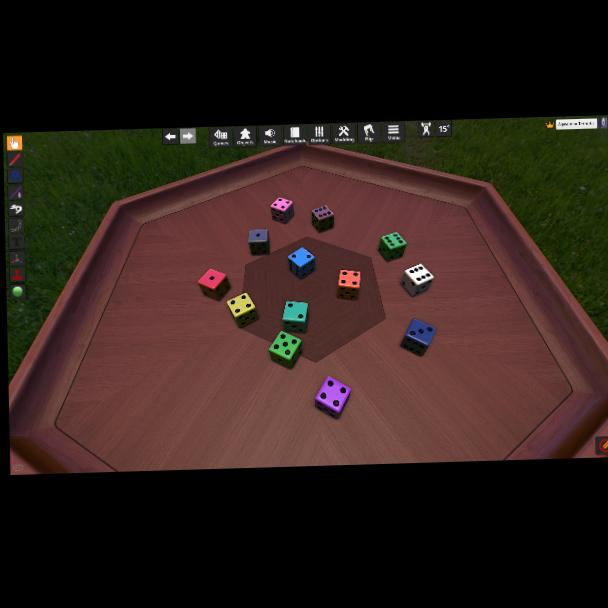d6: (314, 377, 351, 420), (401, 318, 437, 357), (268, 330, 302, 370), (227, 293, 257, 329), (400, 263, 431, 297), (197, 269, 228, 302), (287, 246, 315, 280), (282, 301, 309, 334), (378, 233, 405, 262), (337, 269, 360, 299), (270, 197, 294, 225), (311, 205, 333, 232), (248, 229, 269, 256)
